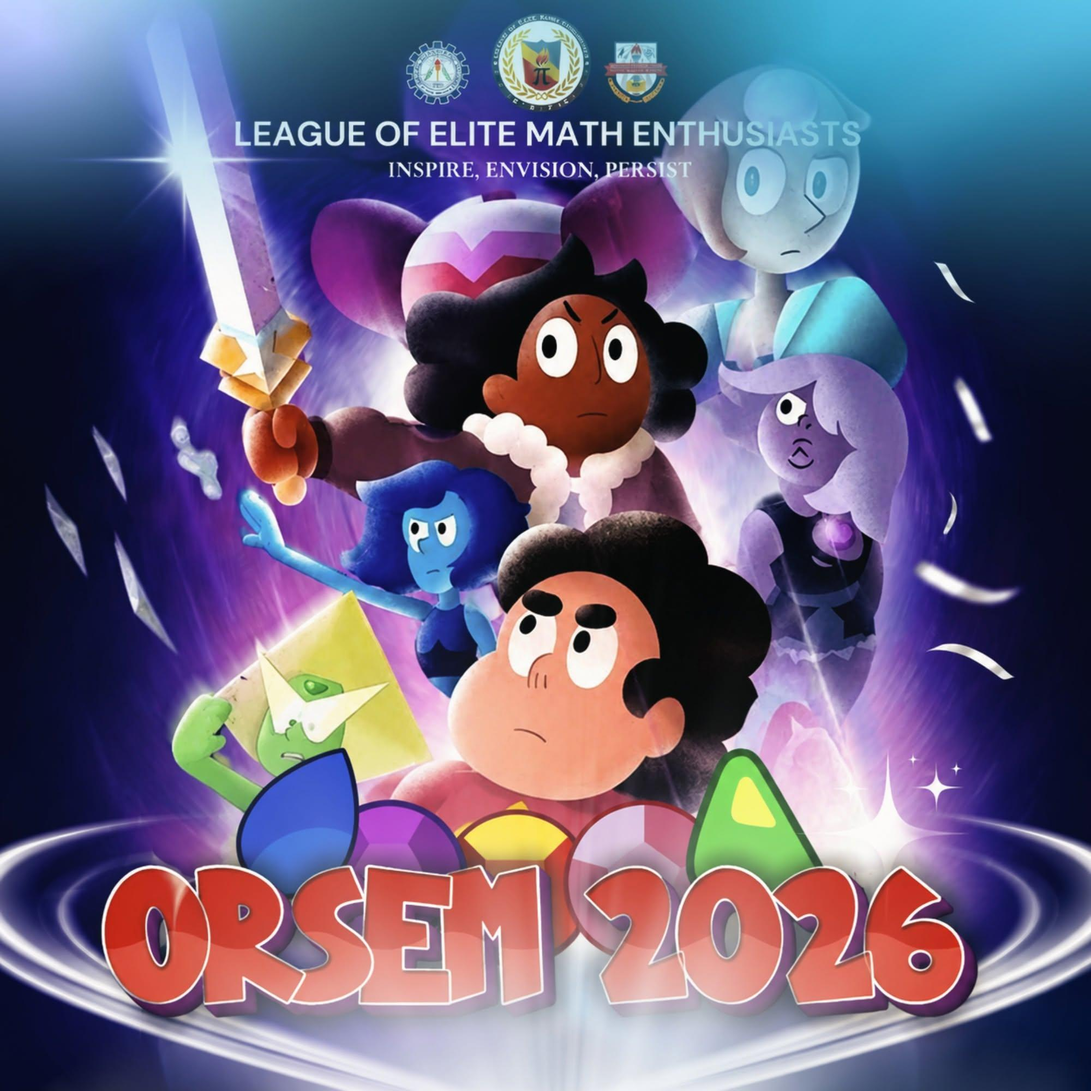embellishment: (128, 9, 912, 831), (568, 802, 696, 961), (686, 748, 822, 892), (235, 748, 359, 899), (459, 812, 580, 954), (350, 801, 465, 877)
logo: (492, 15, 591, 111), (404, 39, 470, 105), (606, 40, 667, 104)
text: (99, 855, 975, 1021), (233, 118, 860, 149), (387, 160, 692, 181)
